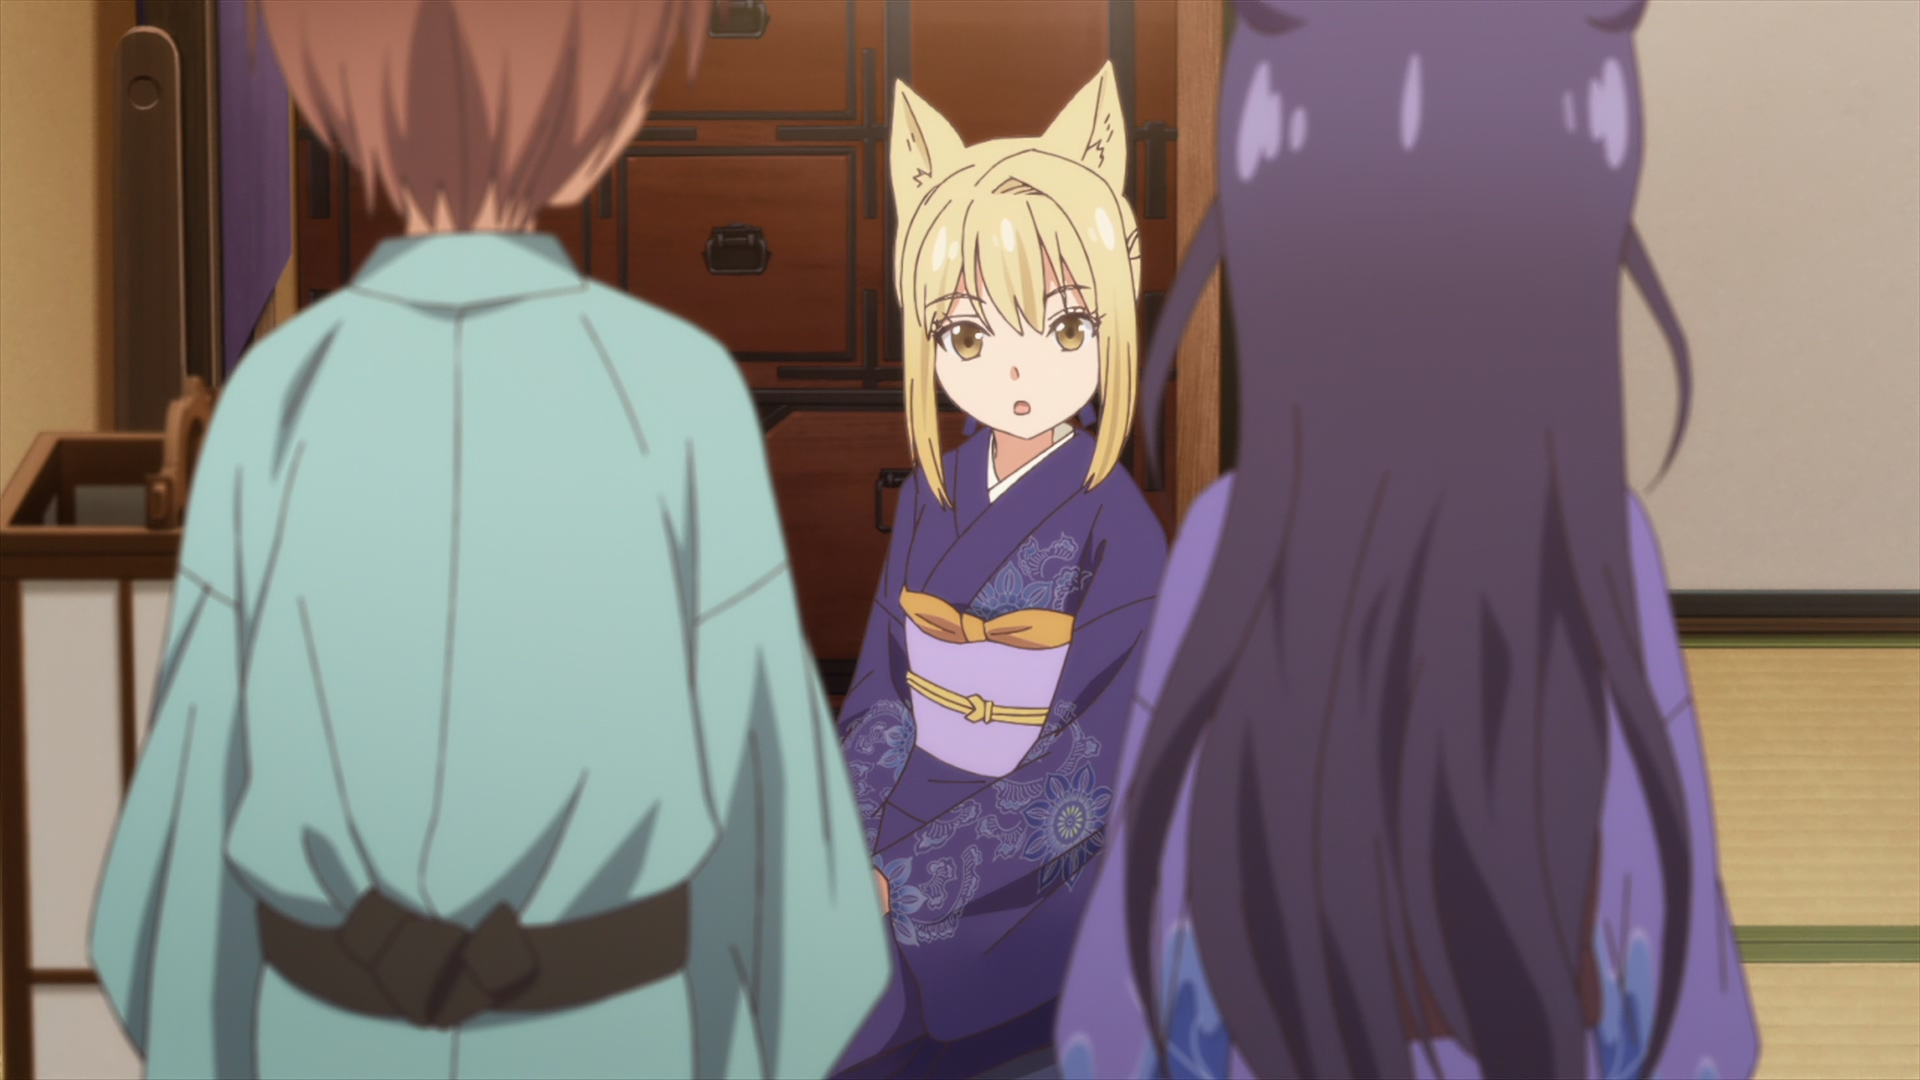枣: (88, 1, 894, 1080)
桐: (837, 61, 1168, 1080)
皋: (1054, 1, 1760, 1080)
